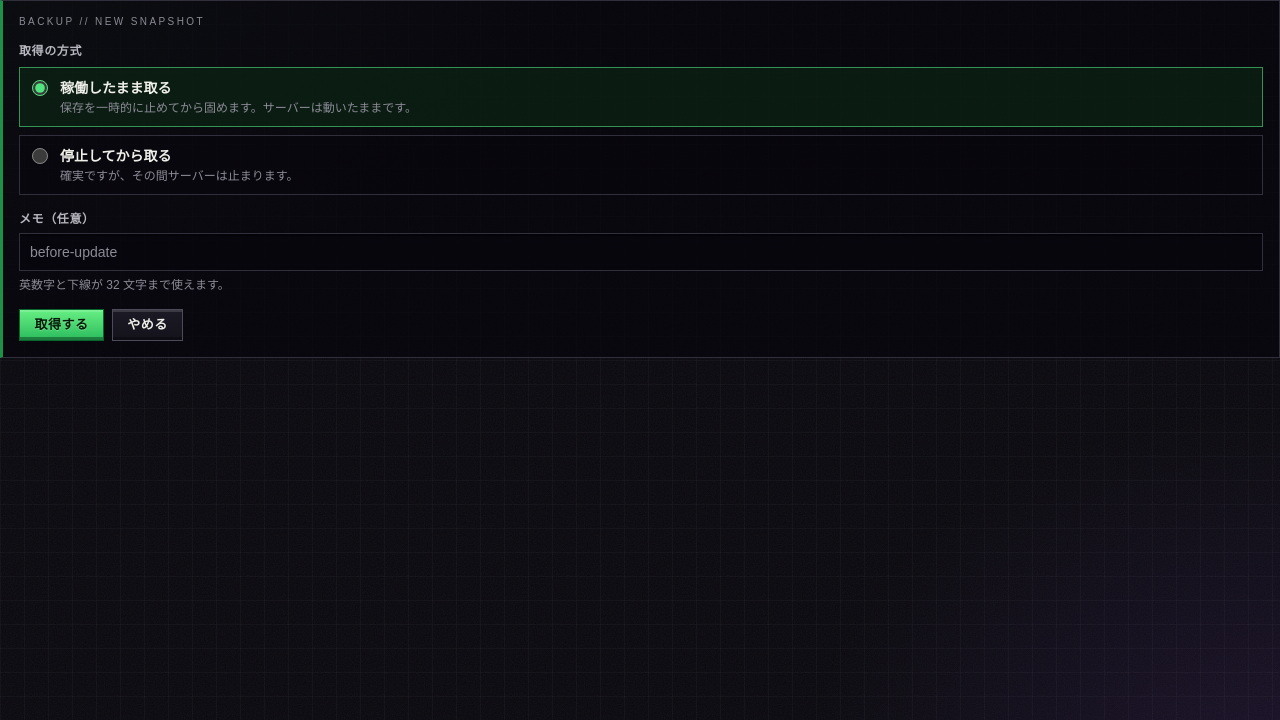
CreateBackupDialog › 停止を伴うことを選んだときに伝える
Click the radio button labelled "停止してから取る 確実ですが、その間サーバーは止まります。" at (40, 156), box [32,148,48,164]
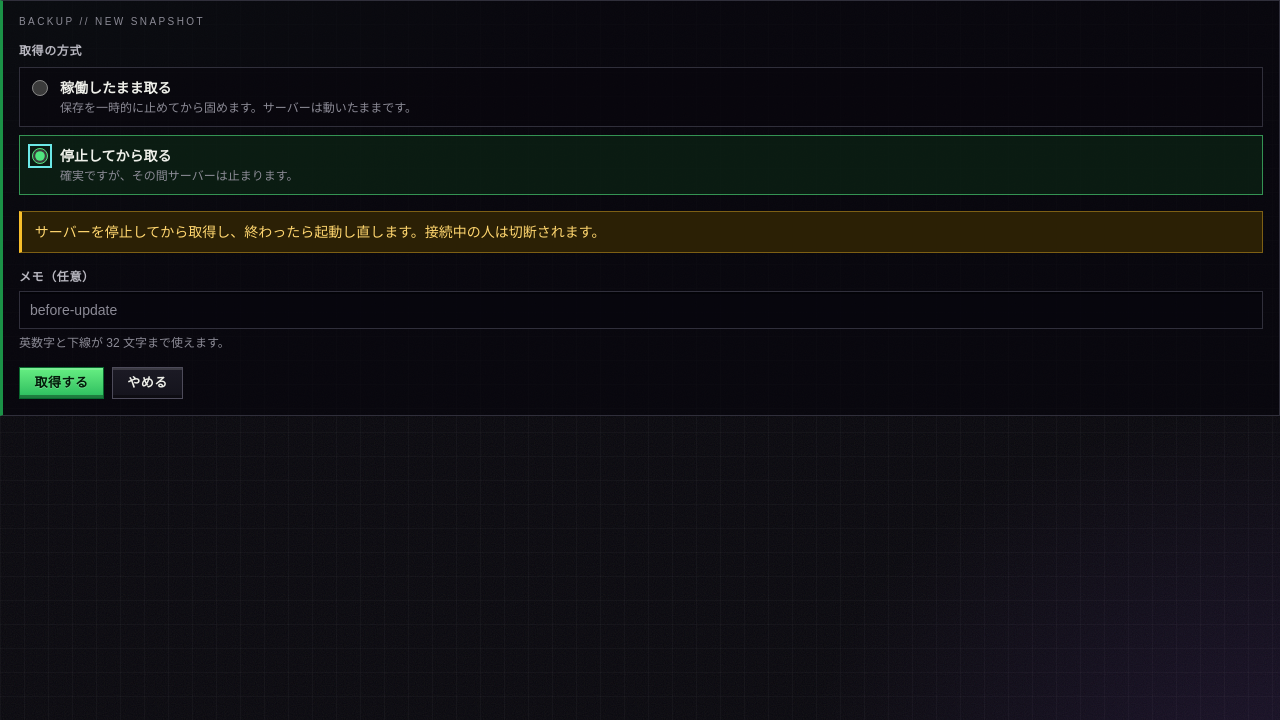
Expected: the message shows "停止", [19,211,1263,253]
